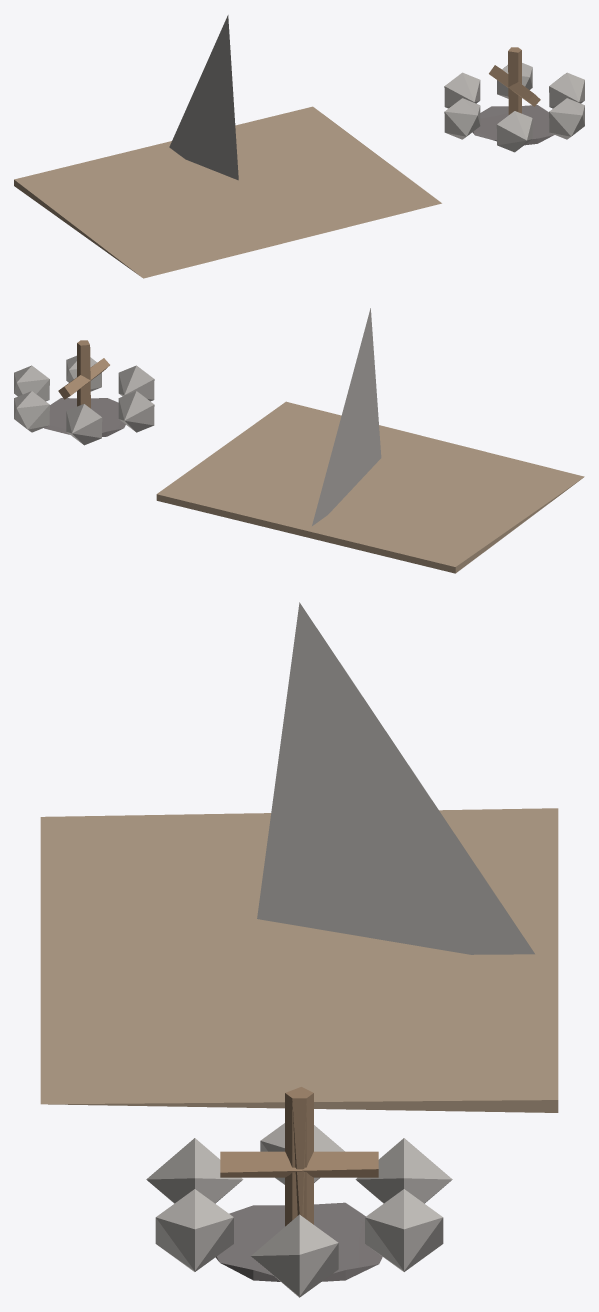
The model's file is 27-Islas-Ubicaciones_campamento_abandonado.glb.
3 views of the same model, one above another, from view 1: azimuth 30°, elevation 25°; view 2: azimuth 150°, elevation 25°; view 3: azimuth 270°, elevation 25° (orthographic). The views are drawn at different scales.
Visible parts, largest first — view 1: SM_Campamento_M_Campamento_Tela_Osc, SM_Campamento_M_Campamento_Tela, SM_Campamento_M_Campamento_Piedra, SM_Campamento_M_Campamento_Ceniza, SM_Campamento_M_Campamento_Madera; view 2: SM_Campamento_M_Campamento_Tela_Osc, SM_Campamento_M_Campamento_Tela, SM_Campamento_M_Campamento_Piedra, SM_Campamento_M_Campamento_Ceniza, SM_Campamento_M_Campamento_Madera; view 3: SM_Campamento_M_Campamento_Tela_Osc, SM_Campamento_M_Campamento_Tela, SM_Campamento_M_Campamento_Piedra, SM_Campamento_M_Campamento_Madera, SM_Campamento_M_Campamento_Ceniza.
Part boxes in pixels (x1=…): SM_Campamento_M_Campamento_Tela_Osc: x1=14, y1=106, x2=441, y2=278; SM_Campamento_M_Campamento_Tela: x1=169, y1=15, x2=238, y2=180; SM_Campamento_M_Campamento_Piedra: x1=444, y1=63, x2=584, y2=152; SM_Campamento_M_Campamento_Ceniza: x1=472, y1=105, x2=554, y2=145; SM_Campamento_M_Campamento_Madera: x1=489, y1=47, x2=540, y2=114; SM_Campamento_M_Campamento_Tela_Osc: x1=156, y1=401, x2=584, y2=573; SM_Campamento_M_Campamento_Tela: x1=312, y1=308, x2=381, y2=525; SM_Campamento_M_Campamento_Piedra: x1=14, y1=355, x2=154, y2=445; SM_Campamento_M_Campamento_Ceniza: x1=44, y1=398, x2=125, y2=436; SM_Campamento_M_Campamento_Madera: x1=58, y1=340, x2=109, y2=408; SM_Campamento_M_Campamento_Tela_Osc: x1=40, y1=808, x2=558, y2=1112; SM_Campamento_M_Campamento_Tela: x1=257, y1=602, x2=534, y2=954; SM_Campamento_M_Campamento_Piedra: x1=146, y1=1123, x2=452, y2=1297; SM_Campamento_M_Campamento_Madera: x1=220, y1=1087, x2=378, y2=1226; SM_Campamento_M_Campamento_Ceniza: x1=215, y1=1202, x2=382, y2=1281.
Size of the model in its own units: 4.06 by 1.4 by 1.8.
